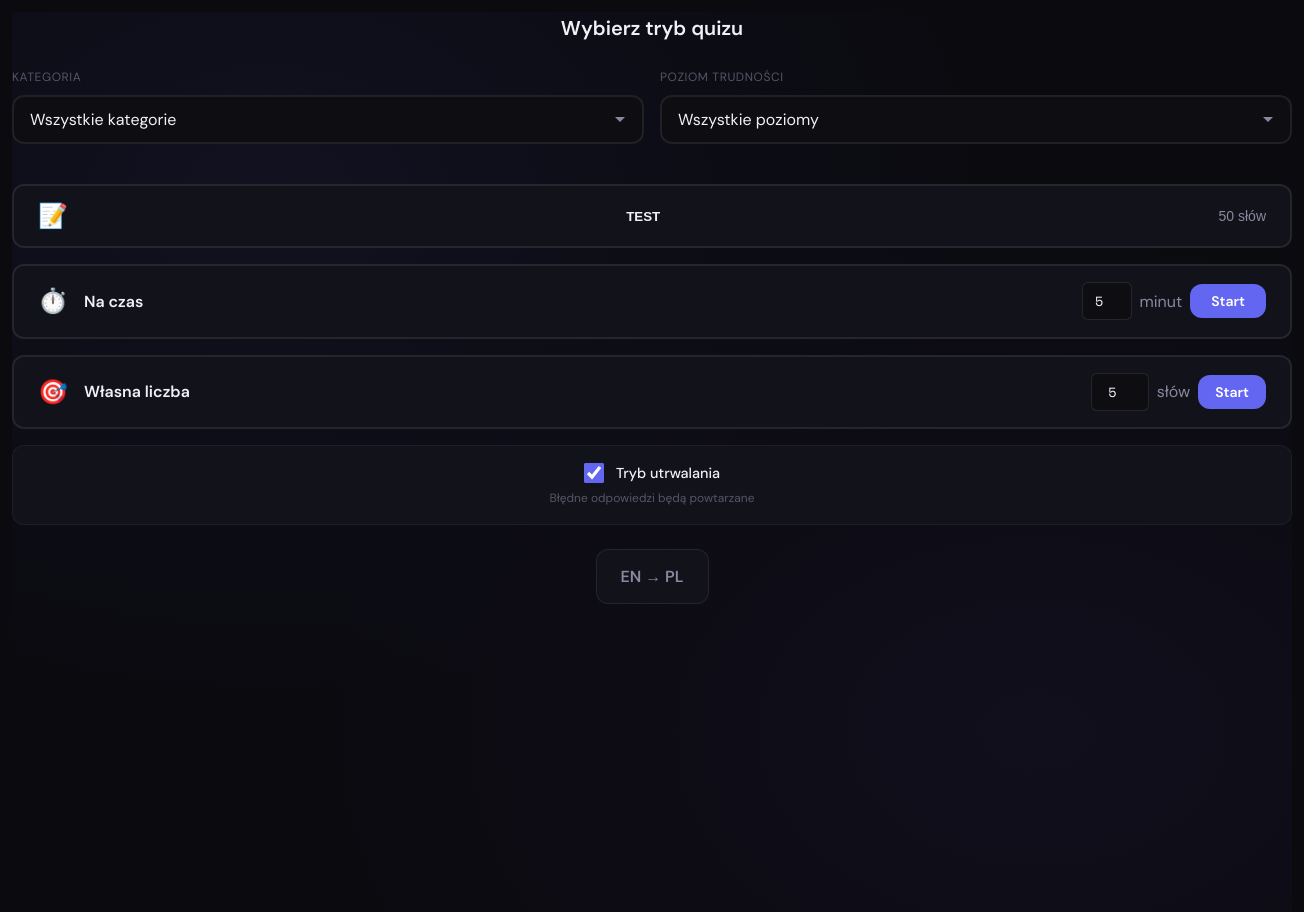
QuizSetup › Validation › should clear error when filters change
The image size is (1304, 912).
Trigger error
Step 1. Click the button "📝 TEST 50 słów" → coordinates (652, 216), box [12,184,1292,248]
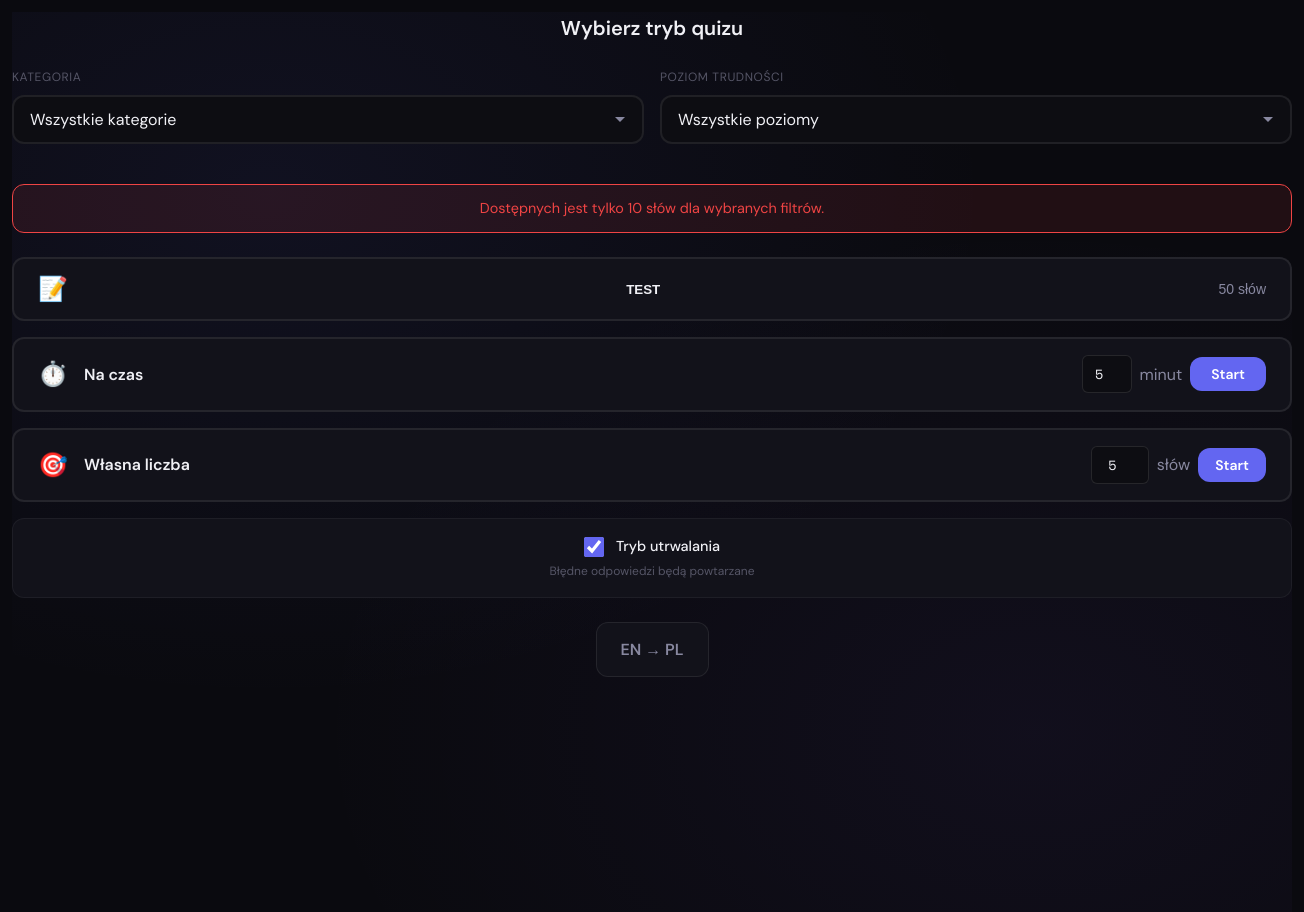
Now the text "Dostępnych jest tylko 10 słów dla wybranych filtrów." is shown, box [12,184,1292,233]
Change category using fireEvent
Step 2. Select "Animals" in the dropdown labelled "Kategoria" → coordinates (328, 120), box [12,95,644,144]
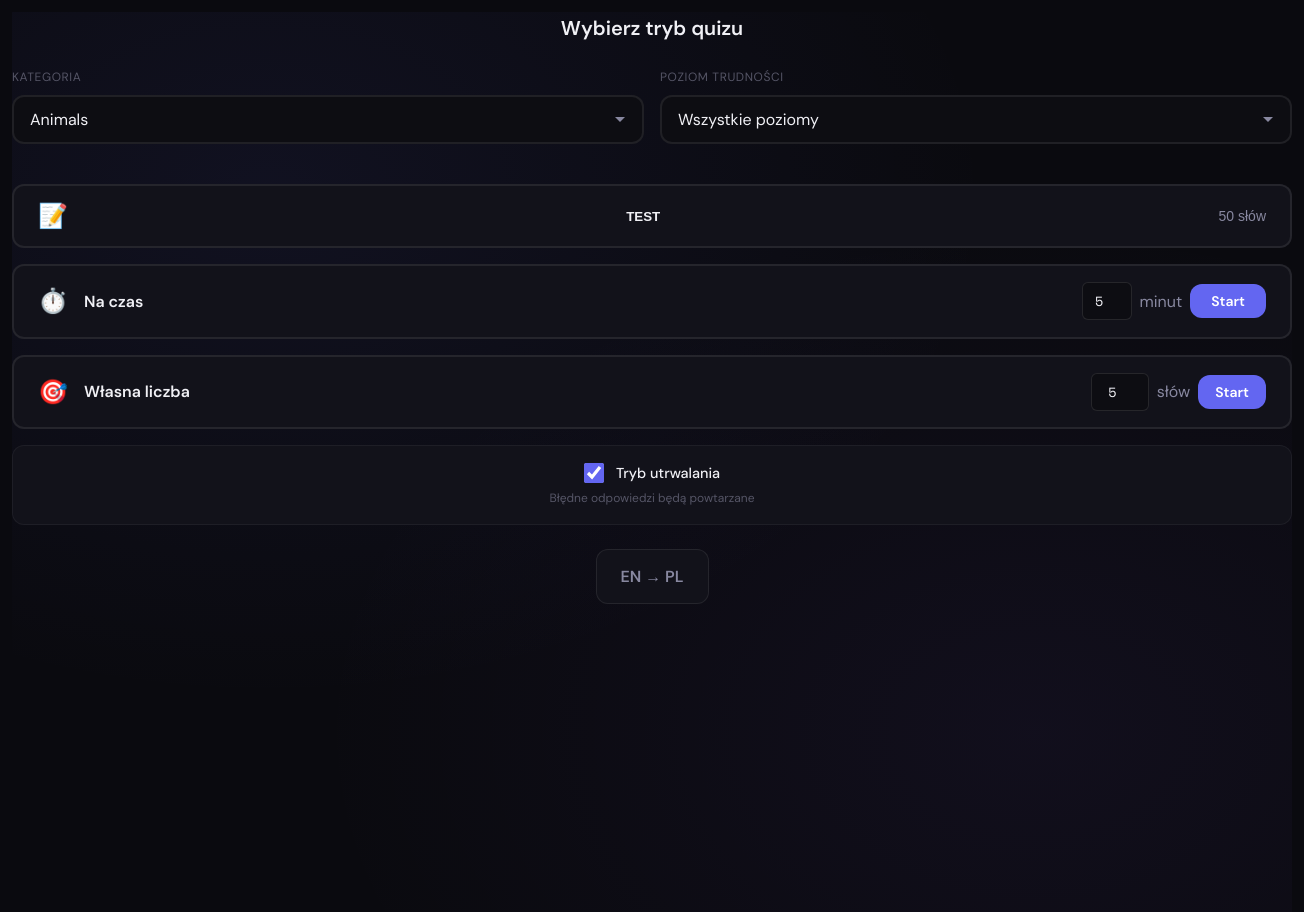
Now the text "Dostępnych jest tylko" is gone
